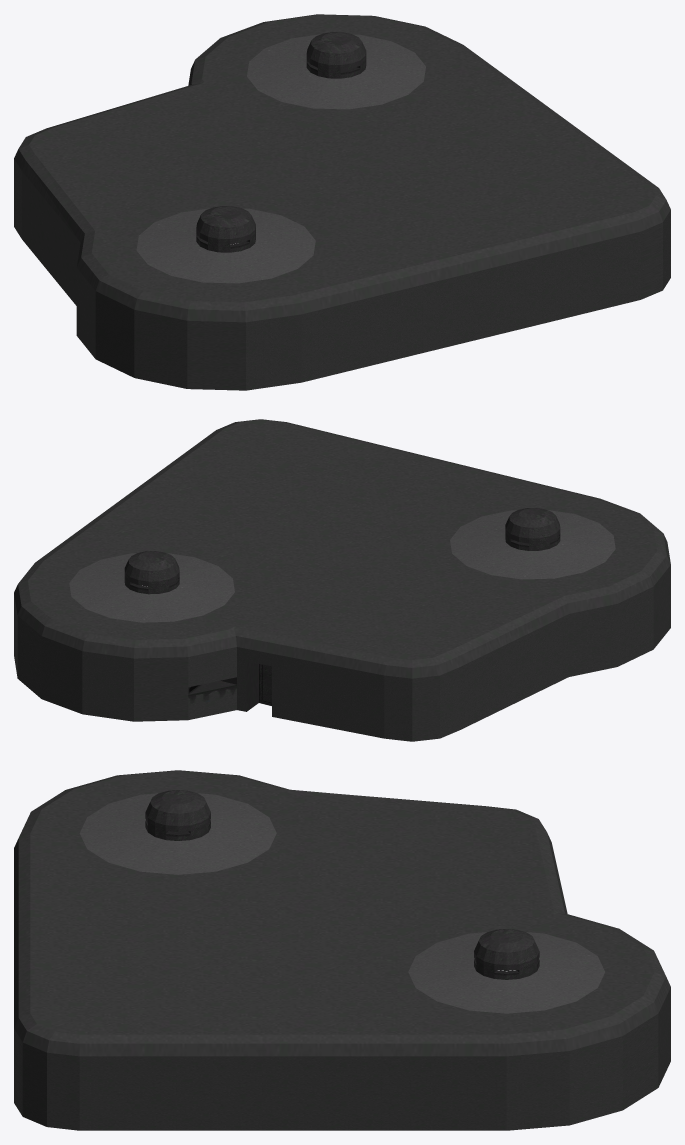
Rendered from hq_building.glb.
3 views of the same model, one above another, from view 1: azimuth 30°, elevation 25°; view 2: azimuth 150°, elevation 25°; view 3: azimuth 270°, elevation 25° (orthographic). The views are drawn at different scales.
Visible parts, largest first — view 1: base; view 2: base; view 3: base.
Boxes of the visible parts, x1,y1,x2,y2 form: base: [14, 14, 670, 390]; base: [14, 419, 670, 741]; base: [14, 770, 670, 1130].
Size of the model in its own units: 12 by 2.52 by 12.
Materials: 1 (1 with a texture image).
